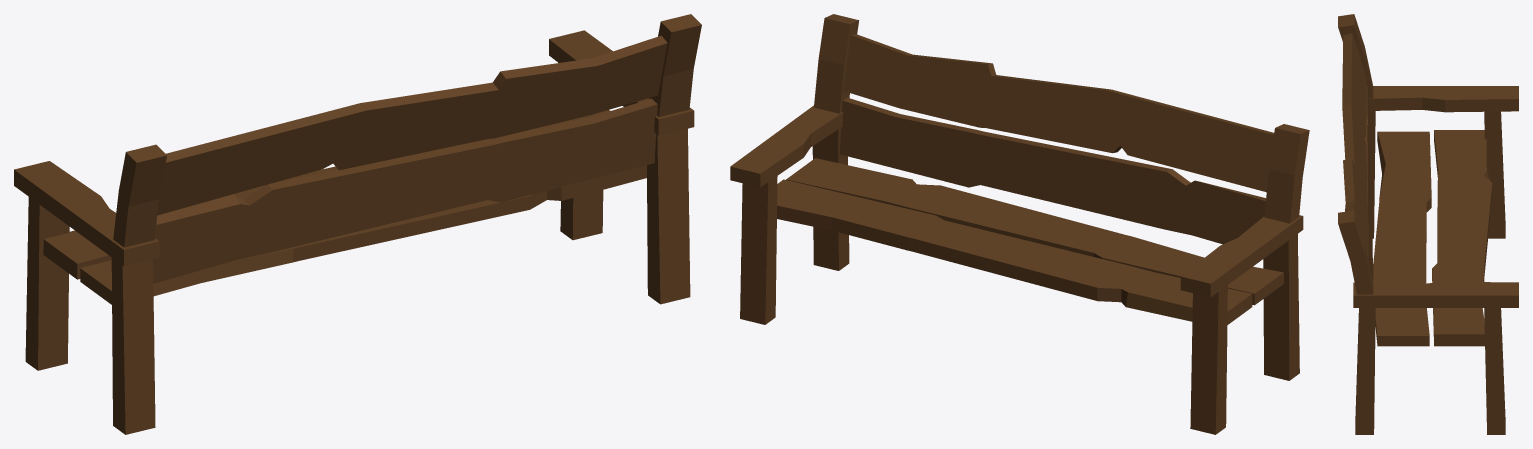
File: Bench.glb
3 renders of one model, left to right at view 1: azimuth 30°, elevation 25°; view 2: azimuth 150°, elevation 25°; view 3: azimuth 270°, elevation 25°, orthographic. The views are drawn at different scales.
Parts seen in each view (by area): view 1: Bench; view 2: Bench; view 3: Bench.
Boxes of the visible parts, left/top/right/bottom form: Bench: left=14, top=14, right=701, bottom=434; Bench: left=730, top=14, right=1309, bottom=434; Bench: left=1338, top=14, right=1518, bottom=434.
Size of the model in its own units: 0.665 by 0.3158 by 0.2424.
